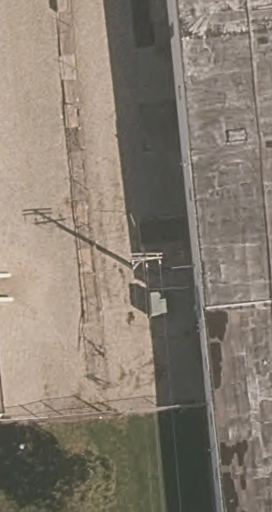DT: (121, 240, 170, 294)
